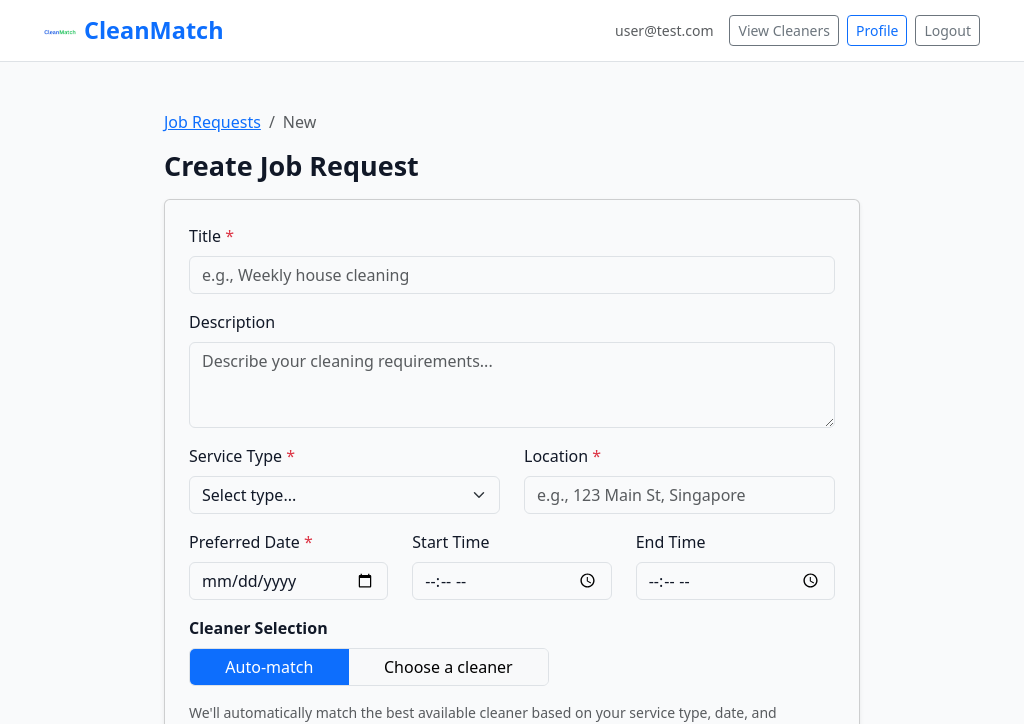
it: CreateJobRequestPage › shows date required error when title, service type, and location are filled but not date
The width and height of the screenshot is (1024, 724).
Step 1. Type "Test Job" into the field with placeholder "e.g., Weekly house cleaning" → (512, 274), box x1=189 y1=256 x2=835 y2=294
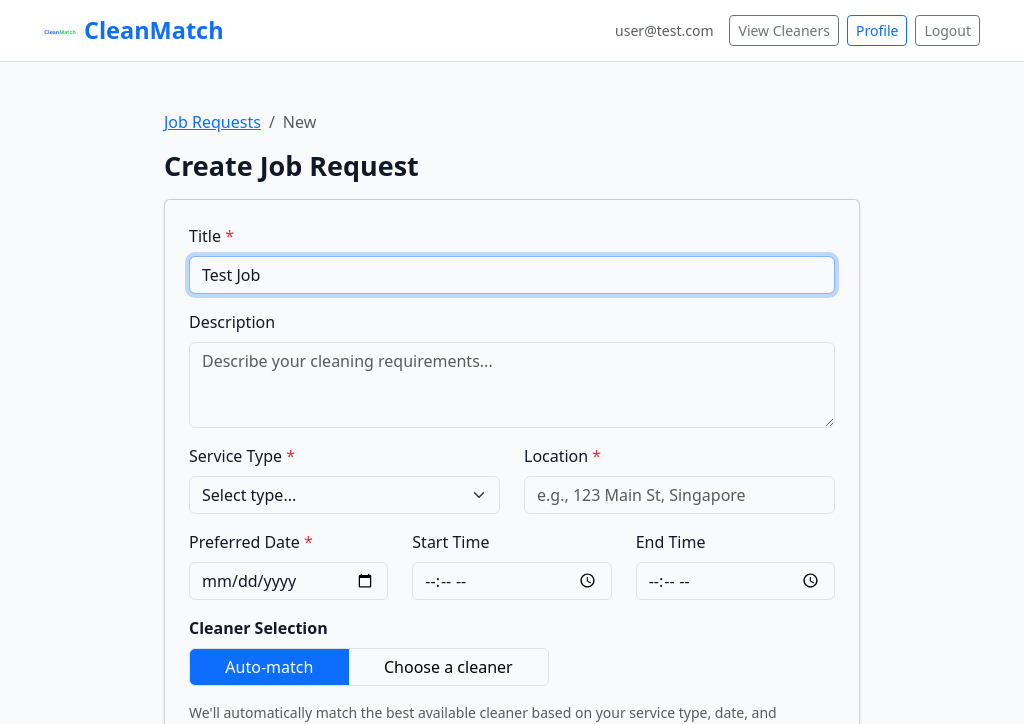
Step 2. Select "Full Cleaning" in the dropdown → (344, 494), box x1=189 y1=476 x2=500 y2=514
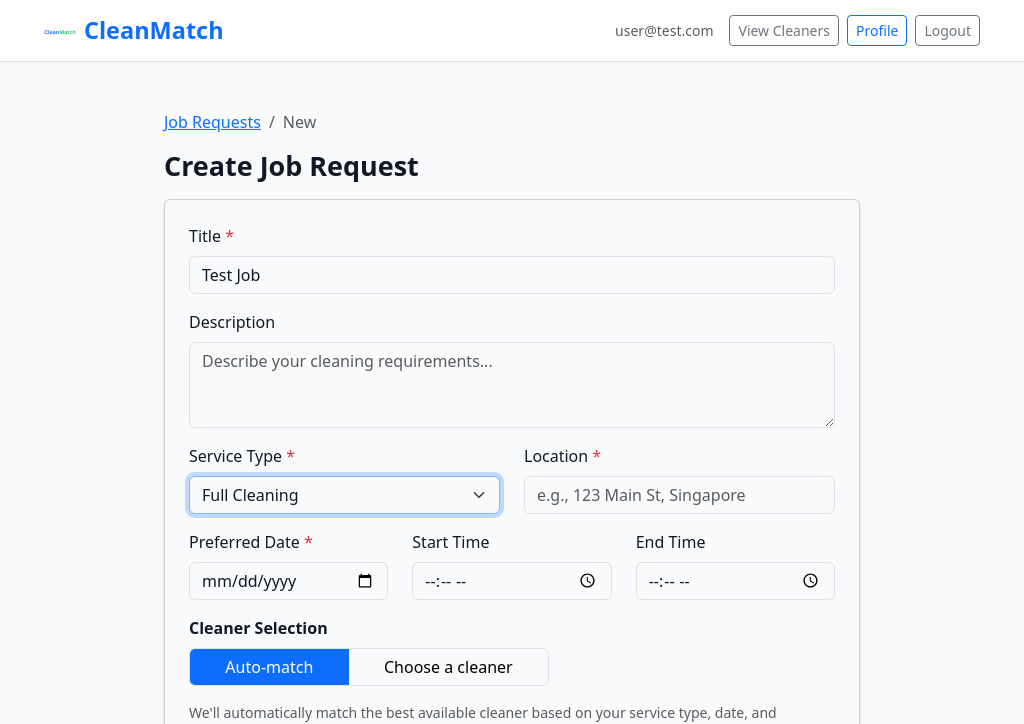
Step 3. Type "10 Orchard Rd" into the field with placeholder "e.g., 123 Main St, Singapore" → (680, 494), box x1=524 y1=476 x2=835 y2=514
(page scrolled)
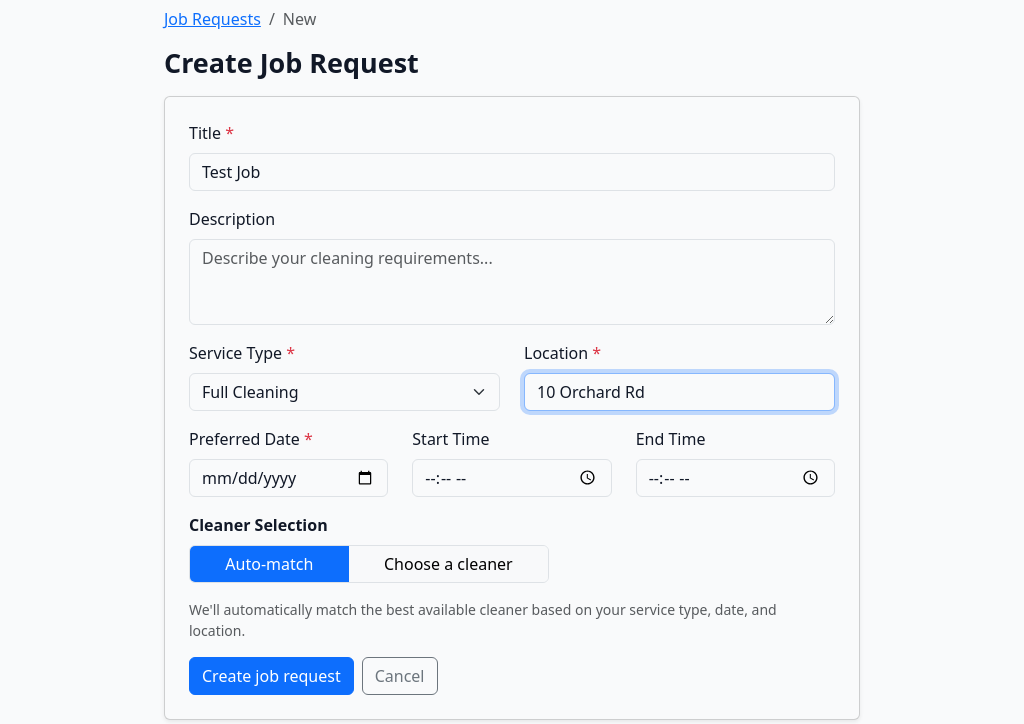
Step 4. Submit the form, box x1=164 y1=96 x2=860 y2=720
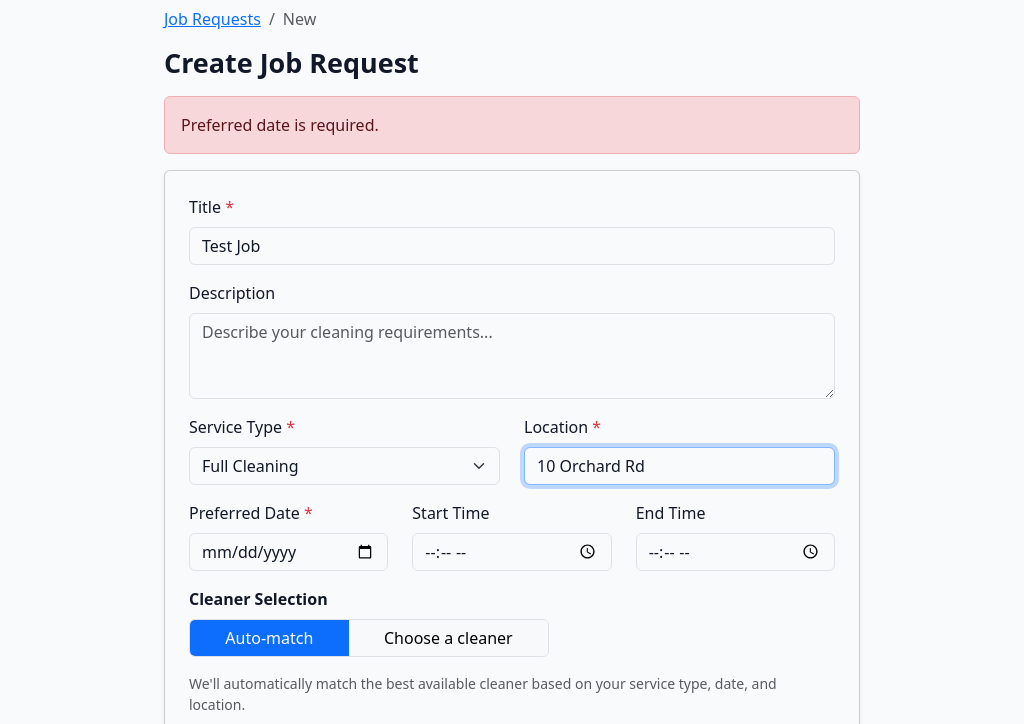
Now the text "Preferred date is required." is shown, box x1=164 y1=96 x2=860 y2=154
